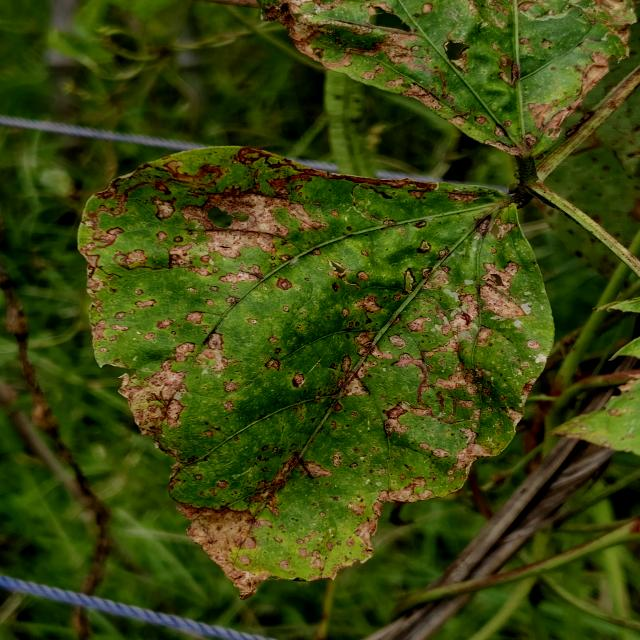leaf-moderate: (78, 147, 554, 587), (257, 0, 639, 180)
